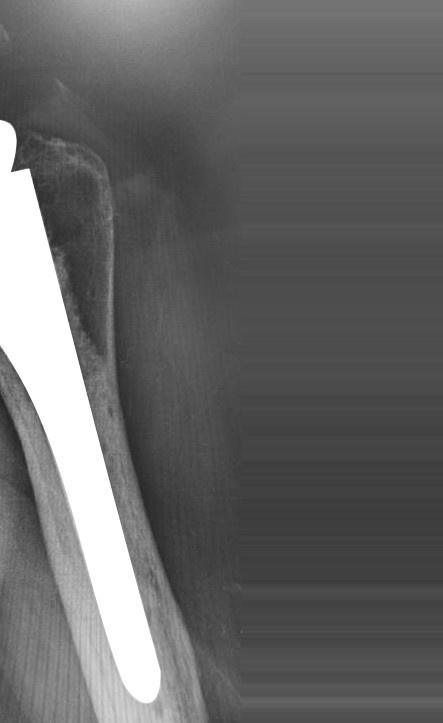Shoulder - Anotomytail - Stryker: (1, 121, 139, 544)
